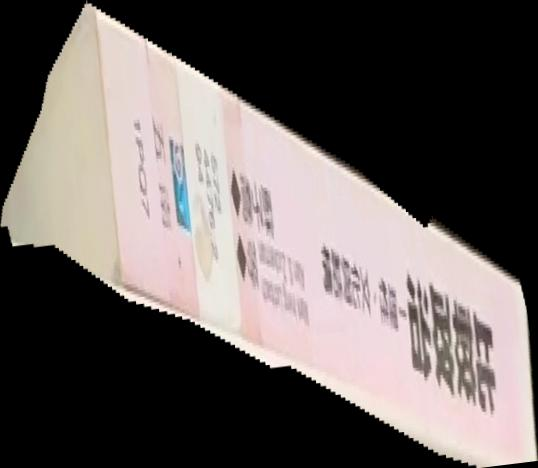flat: (1, 1, 538, 468)
